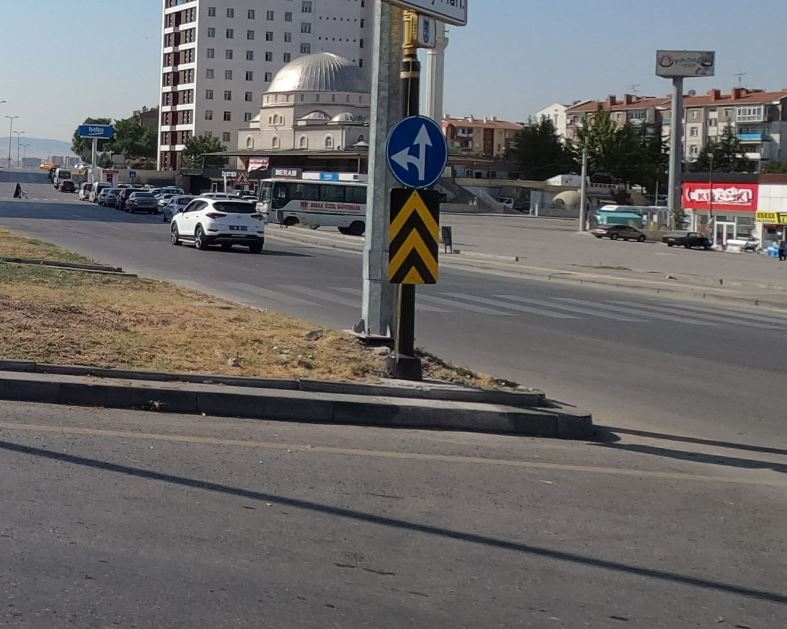ileri ve Sola Mecburi Don: (387, 108, 456, 192)
